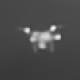plane: (16, 23, 65, 54)
